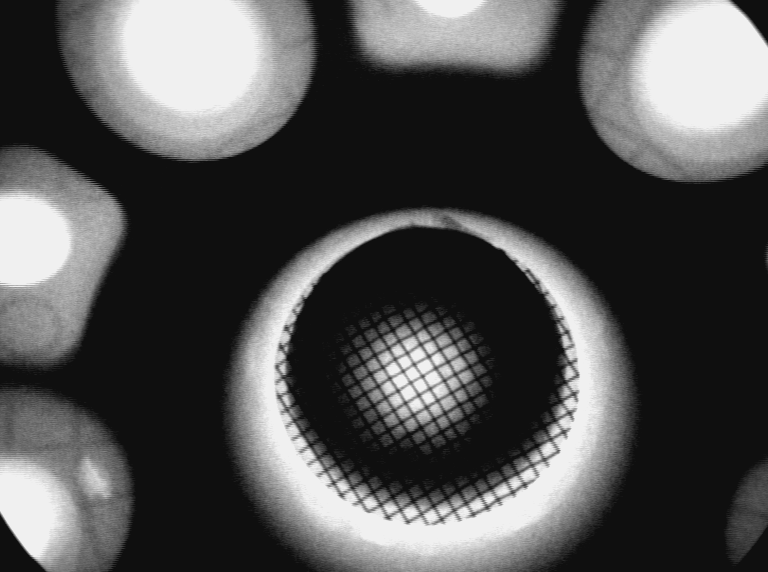defect: (72, 451, 117, 506)
